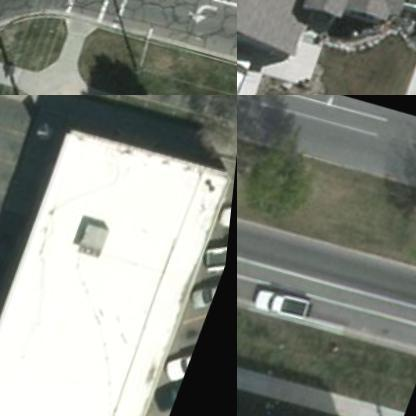car: (252, 278, 318, 322), (162, 340, 197, 384), (237, 43, 261, 94), (188, 275, 223, 309), (202, 238, 232, 272), (214, 198, 236, 228)
